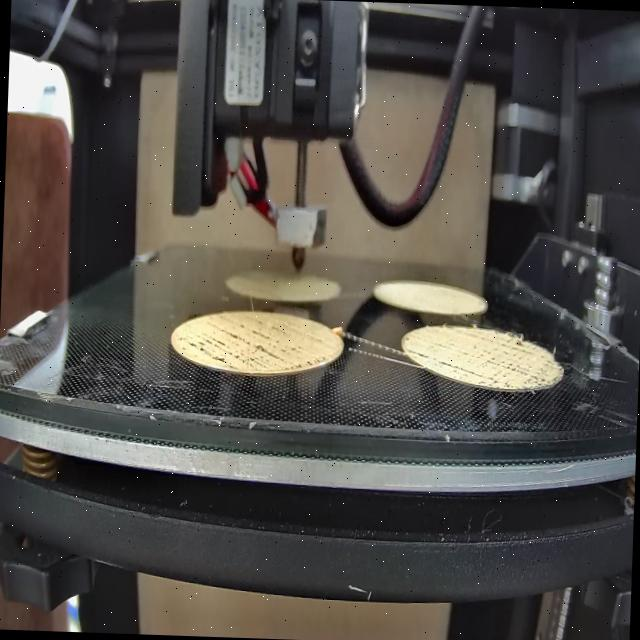under_extrusion: (176, 316, 330, 367), (436, 335, 552, 388), (403, 342, 432, 364)
